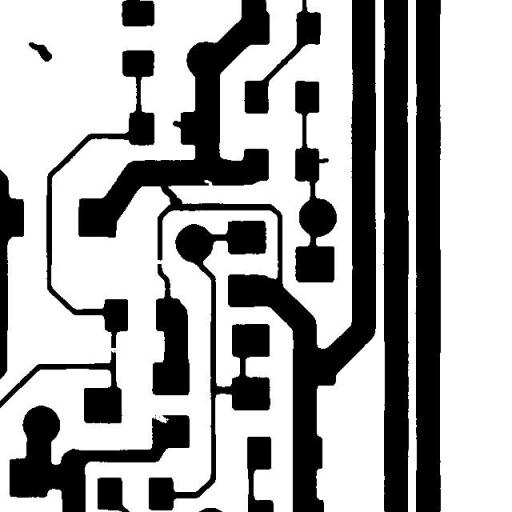copper: (21, 34, 59, 69)
mousebite: (144, 404, 176, 430), (196, 172, 221, 195)
open: (100, 340, 125, 361), (146, 252, 172, 271)
short: (152, 174, 190, 216)
spur: (165, 113, 193, 136), (309, 150, 336, 170)
